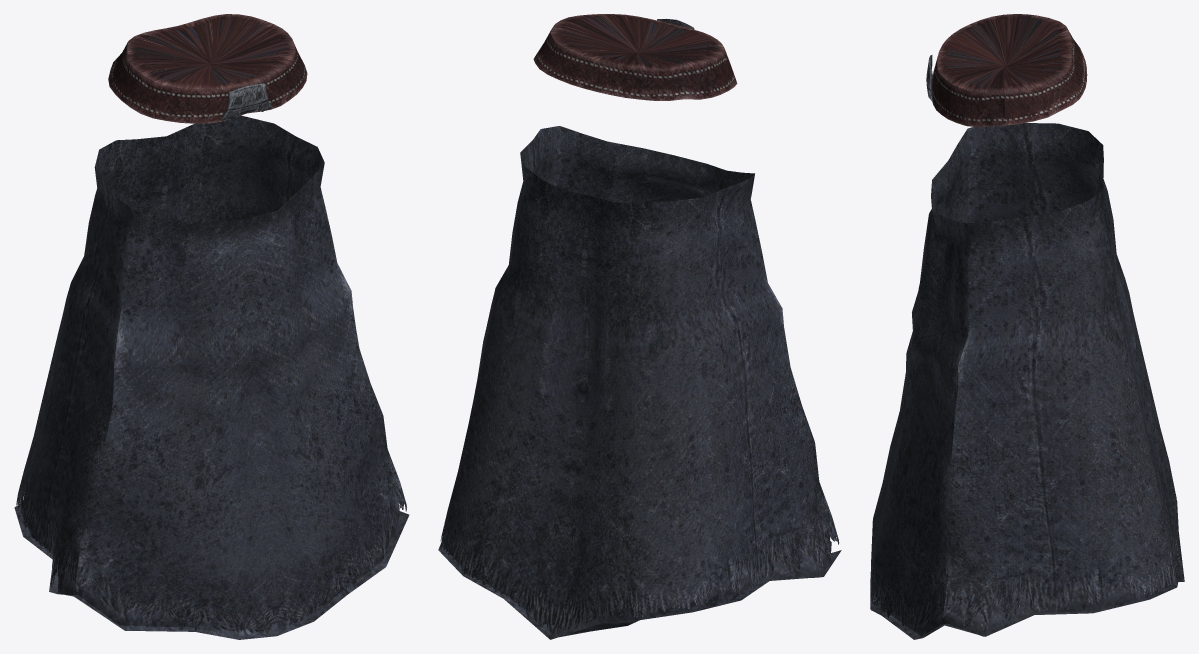
The model's file is Lower_01.fbx.
3 views of the same model, side by side, from view 1: azimuth 30°, elevation 25°; view 2: azimuth 150°, elevation 25°; view 3: azimuth 270°, elevation 25° (orthographic). The views are drawn at different scales.
Parts seen in each view (by area): view 1: F_Human_01_Lower; view 2: F_Human_01_Lower; view 3: F_Human_01_Lower.
Boxes of the visible parts, box(x1,y1,x2,y2) form: F_Human_01_Lower: box(14, 14, 409, 639); F_Human_01_Lower: box(438, 14, 841, 639); F_Human_01_Lower: box(870, 14, 1184, 639).
Size of the model in its own units: 80.86 by 122 by 63.27.
1 material, 1 textured.
